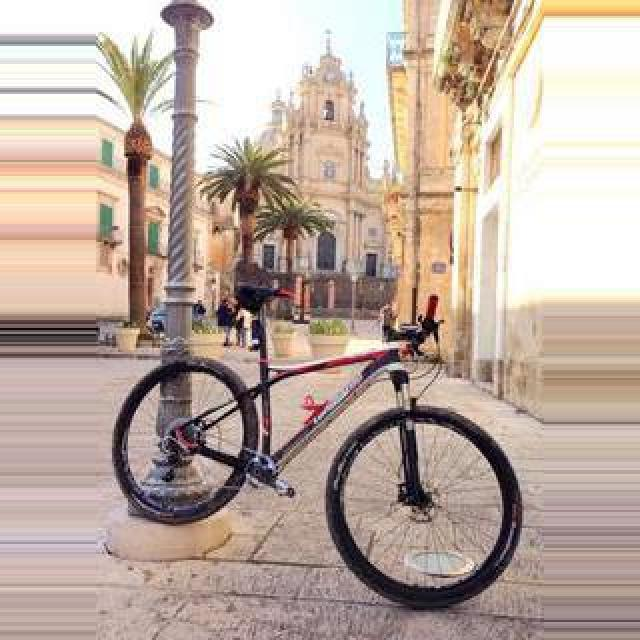Person: (114, 278, 520, 606)
